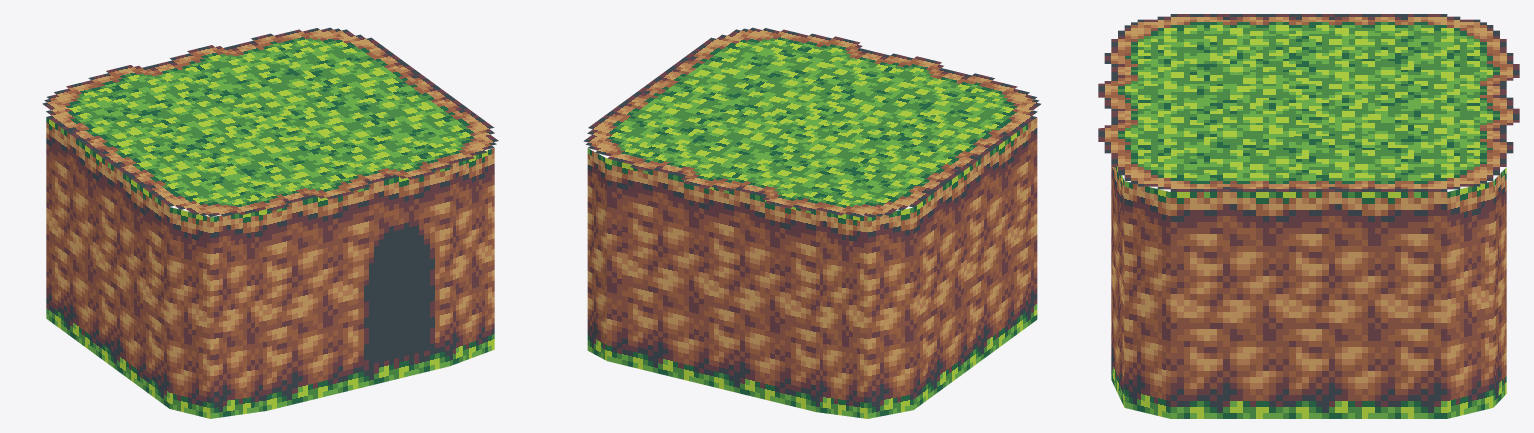
File: Dungeon_Entrance_Dirt.gltf
3 renders of one model, left to right at view 1: azimuth 30°, elevation 25°; view 2: azimuth 150°, elevation 25°; view 3: azimuth 270°, elevation 25°, orthographic. The views are drawn at different scales.
Size of the model in its own units: 4 by 2.38 by 4.
Materials: 1 (1 with a texture image).
